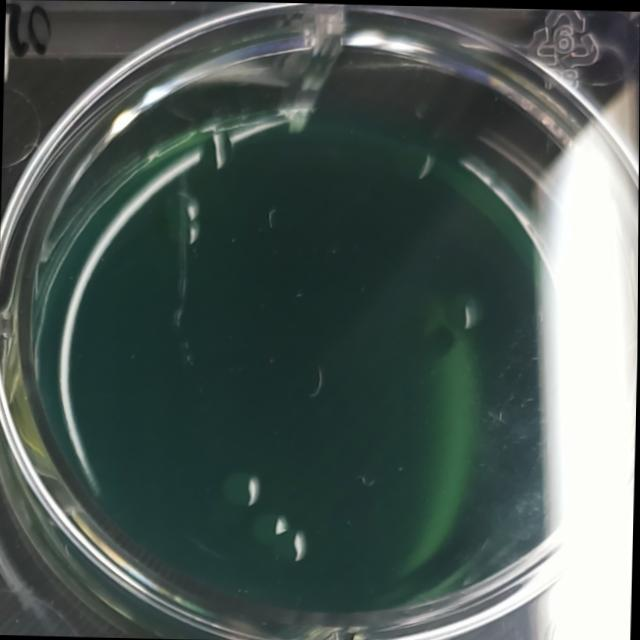vibrio: (246, 509, 310, 569), (161, 188, 208, 248), (217, 467, 264, 508)
